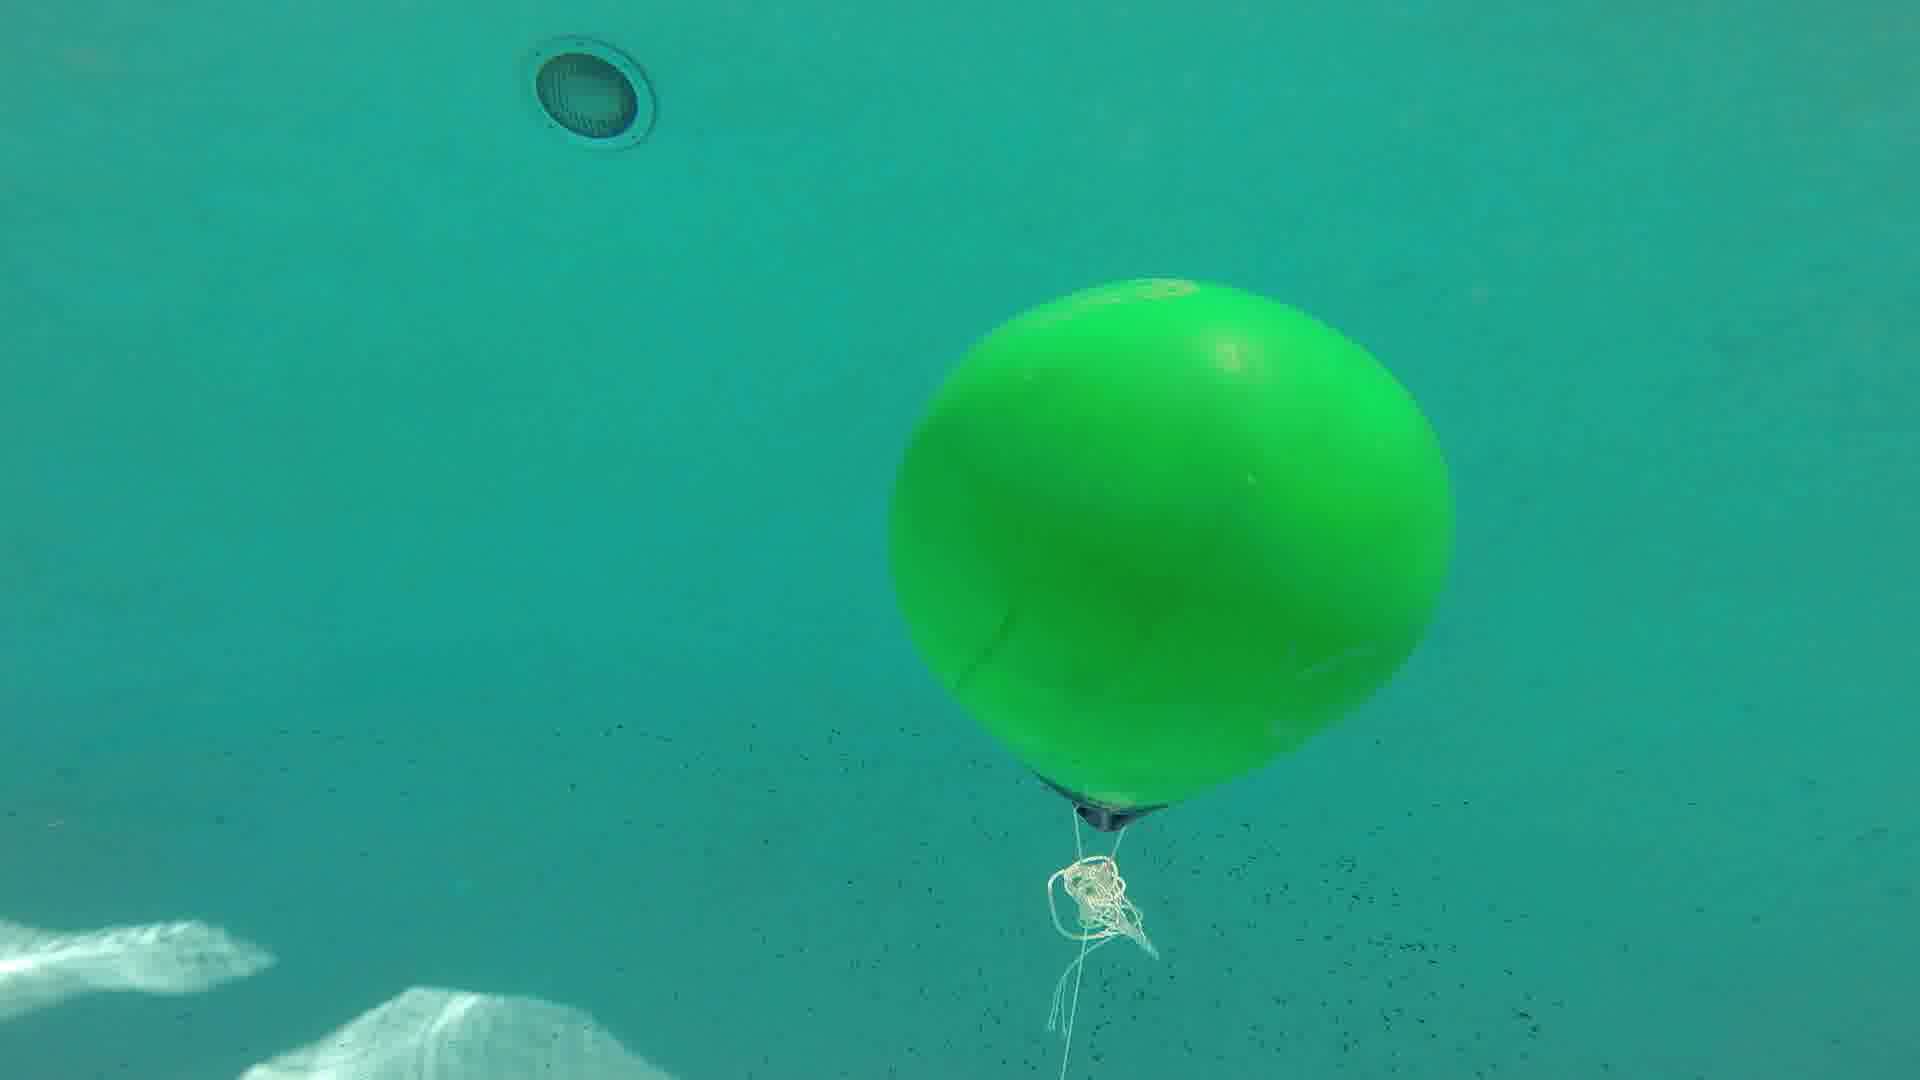yellow_buoy: (873, 266, 1457, 836)
